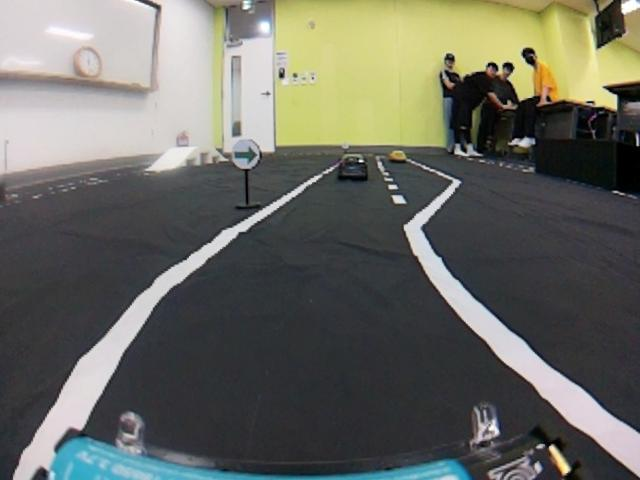car: (335, 151, 370, 184), (389, 150, 407, 163)
sign_right: (232, 137, 261, 171)
straight: (3, 219, 631, 480)
